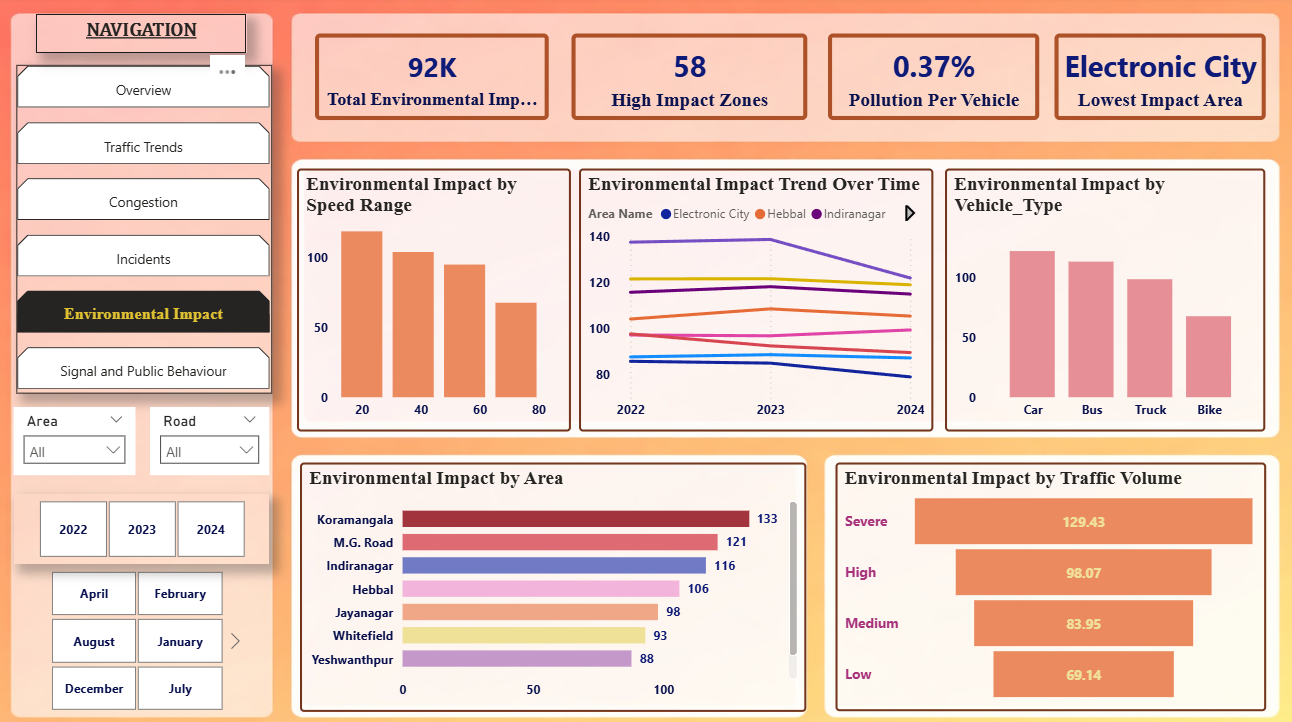

What the dashboard file says about the page in this screenshot:
{"tool":"powerbi","page":{"name":"Environmental Impact","canvas":[1280,720],"ordinal":4},"visuals":[{"type":"group","id":"g1","title":"Group 6","box":[316.9,37.3,930.5,84.7],"z":0},{"type":"card","fields":{"Values":["Sum(Banglore_traffic_Dataset.Environmental Impact)"]},"box":[316.9,37.3,228.8,84.7],"z":0,"group":"g2"},{"type":"slicer","fields":{"Values":["Banglore_traffic_Dataset.Area Name"]},"box":[22.7,402.8,119.6,66.6],"z":0,"group":"g6"},{"type":"slicer","fields":{"Values":["Banglore_traffic_Dataset.Road/Intersection Name"]},"box":[156,402.8,116.6,66.6],"z":1000,"group":"g6"},{"type":"clusteredBarChart","title":"Environmental Impact by Area","fields":{"Category":["Banglore_traffic_Dataset.Area Name"],"Y":["Avg(Banglore_traffic_Dataset.Environmental Impact)"]},"box":[302.8,455.8,495.1,243.8],"z":1000},{"type":"card","fields":{"Values":["Banglore_traffic_Dataset.High Impact Zones"]},"box":[567.7,37.3,230.5,84.7],"z":2000,"group":"g3"},{"type":"slicer","fields":{"Values":["Banglore_traffic_Dataset.Month"]},"box":[33.3,556.4,216.5,149.2],"z":2000},{"type":"funnel","title":"Environmental Impact by Traffic Volume","fields":{"Category":["Banglore_traffic_Dataset.Congestion Level Category"],"Y":["Measures Table.Average Enviromental Impact"]},"box":[825.8,456.3,421.6,243.2],"z":3000},{"type":"group","id":"g2","title":"Group 1","box":[316.9,37.3,228.8,84.7],"z":4000,"group":"g1"},{"type":"card","fields":{"Values":["Banglore_traffic_Dataset.Pollution Per Vehicle"]},"box":[818.6,37.3,206.8,84.7],"z":4000,"group":"g5"},{"type":"card","fields":{"Values":["Measures Table.Area with Lowest Impact"]},"box":[1040.6,37.3,206.8,84.7],"z":4000,"group":"g4"},{"type":"lineChart","title":"Environmental Impact Trend Over Time","fields":{"Y":["Avg(Banglore_traffic_Dataset.Environmental Impact)"],"Series":["Banglore_traffic_Dataset.Area Name"],"Category":["Banglore_traffic_Dataset.Year"]},"box":[575.4,168.1,346.8,257.4],"z":4000},{"type":"group","id":"g3","title":"Group 3","box":[567.7,37.3,230.5,84.7],"z":5000,"group":"g1"},{"type":"clusteredColumnChart","title":"Environmental Impact by Vehicle_Type","fields":{"Category":["Banglore_traffic_Dataset.Vehicle_Type"],"Y":["Avg(Banglore_traffic_Dataset.Environmental Impact)"]},"box":[932.8,168.1,313.4,257.4],"z":5000},{"type":"group","id":"g4","title":"Group 4","box":[1040.6,37.3,206.8,84.7],"z":6000,"group":"g1"},{"type":"clusteredColumnChart","title":"Environmental Impact by Speed Range","fields":{"Category":["Banglore_traffic_Dataset.Average Speed (bins)"],"Y":["Avg(Banglore_traffic_Dataset.Environmental Impact)"]},"box":[299.8,168.1,268,257.4],"z":6000},{"type":"group","id":"g5","title":"Group 4","box":[818.6,37.3,206.8,84.7],"z":7000,"group":"g1"},{"type":"pageNavigator","box":[24.2,68.1,249.8,321],"z":7000},{"type":"slicer","fields":{"Values":["Banglore_traffic_Dataset.Year"]},"box":[22.7,487.6,249.8,68.1],"z":8000},{"type":"group","id":"g6","title":"Group 2","box":[22.7,402.8,249.8,66.6],"z":9000},{"type":"textbox","box":[43.9,18.2,205.9,37.9],"z":10000}]}

Visuals, with their boxes in screenshot pixels (x1, y1, x2, y2), scaled from the page's 1280x720 canvas onto the 1292x722 screenshot:
"Group 6" group: BBox(320, 37, 1259, 122)
card - Sum(Banglore_traffic_Dataset.Environmental Impact): BBox(320, 37, 551, 122)
slicer - Banglore_traffic_Dataset.Area Name: BBox(23, 404, 144, 471)
slicer - Banglore_traffic_Dataset.Road/Intersection Name: BBox(157, 404, 275, 471)
"Environmental Impact by Area" clusteredBarChart: BBox(306, 457, 805, 702)
card - Banglore_traffic_Dataset.High Impact Zones: BBox(573, 37, 806, 122)
slicer - Banglore_traffic_Dataset.Month: BBox(34, 558, 252, 708)
"Environmental Impact by Traffic Volume" funnel: BBox(834, 458, 1259, 701)
"Group 1" group: BBox(320, 37, 551, 122)
card - Banglore_traffic_Dataset.Pollution Per Vehicle: BBox(826, 37, 1035, 122)
card - Measures Table.Area with Lowest Impact: BBox(1050, 37, 1259, 122)
"Environmental Impact Trend Over Time" lineChart: BBox(581, 169, 931, 427)
"Group 3" group: BBox(573, 37, 806, 122)
"Environmental Impact by Vehicle_Type" clusteredColumnChart: BBox(942, 169, 1258, 427)
"Group 4" group: BBox(1050, 37, 1259, 122)
"Environmental Impact by Speed Range" clusteredColumnChart: BBox(303, 169, 573, 427)
"Group 4" group: BBox(826, 37, 1035, 122)
pageNavigator: BBox(24, 68, 277, 390)
slicer - Banglore_traffic_Dataset.Year: BBox(23, 489, 275, 557)
"Group 2" group: BBox(23, 404, 275, 471)
textbox: BBox(44, 18, 252, 56)
